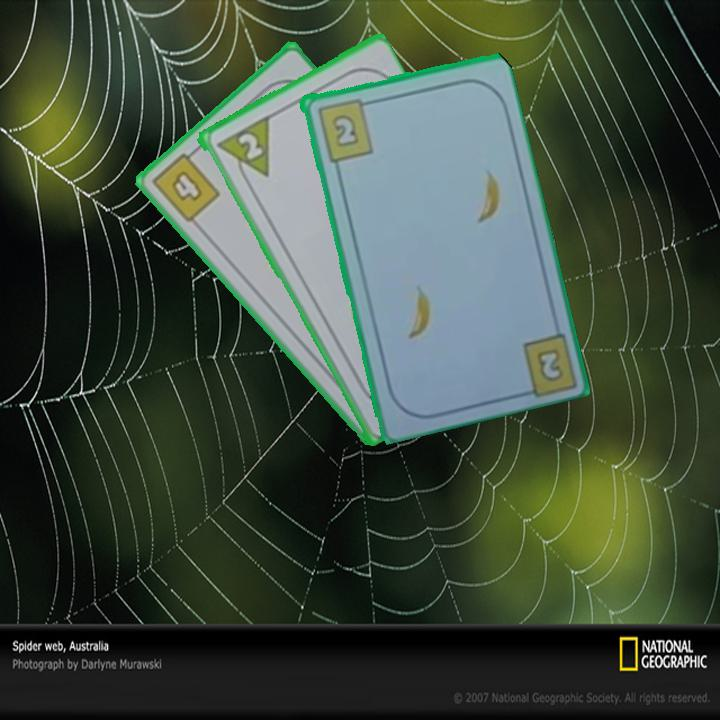2b: (313, 94, 376, 164), (536, 348, 563, 381)
2p: (233, 129, 265, 163)
4b: (148, 144, 223, 226)
